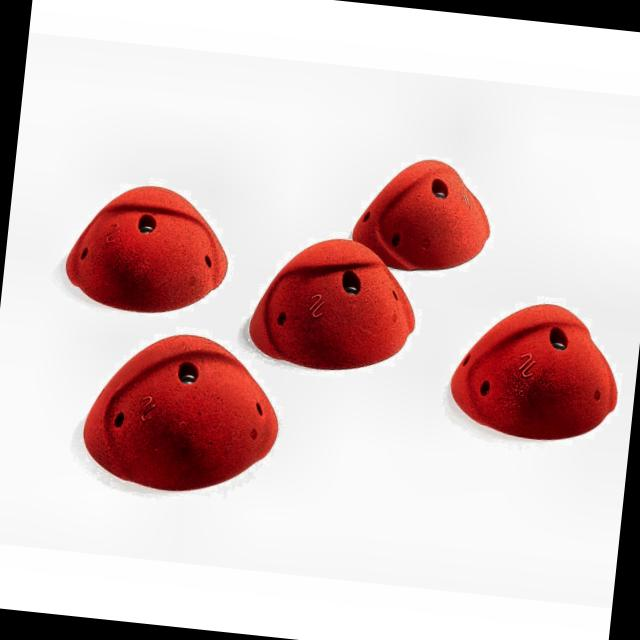Hold: (82, 323, 272, 508), (62, 164, 244, 324), (447, 294, 624, 448), (254, 229, 423, 382), (344, 148, 494, 276)
